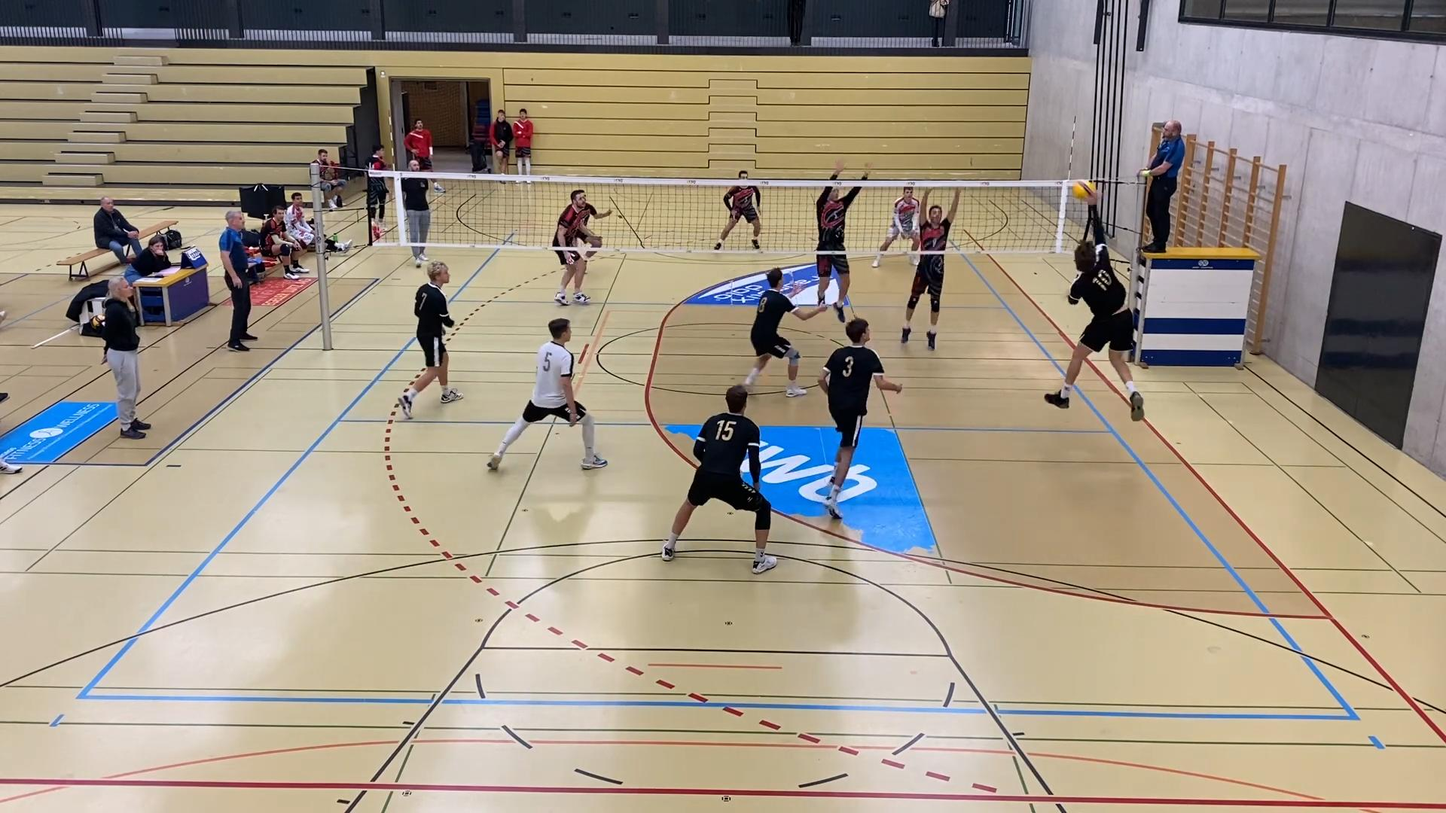Attack: (1043, 191, 1148, 421)
Block: (805, 156, 873, 325)
Player: (661, 385, 776, 574), (487, 318, 607, 470), (819, 318, 902, 519), (744, 267, 826, 397), (397, 261, 462, 419), (901, 190, 959, 349), (552, 190, 611, 305), (872, 186, 920, 267), (714, 170, 760, 250)
ball: (1072, 176, 1096, 201)
